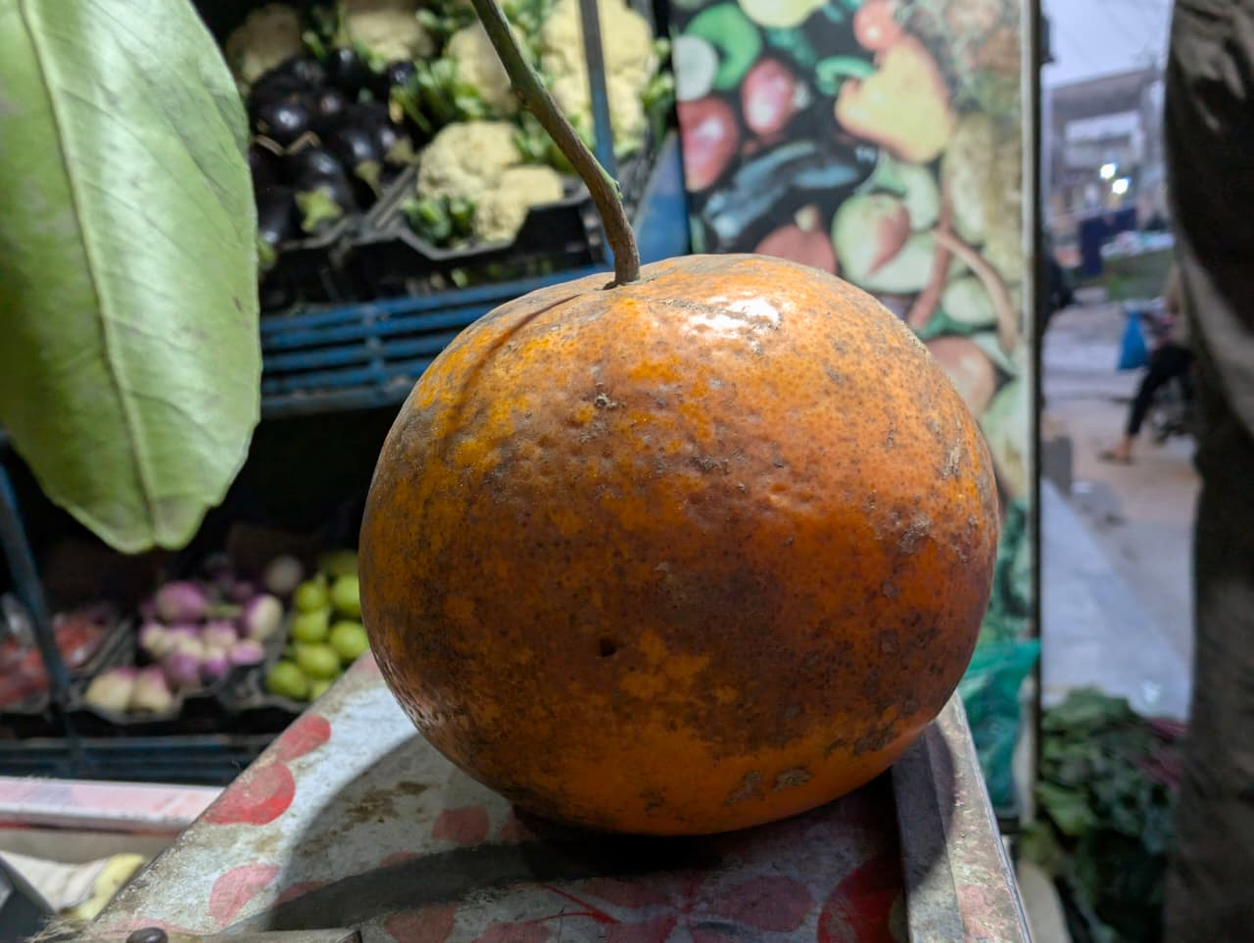orange: (148, 90, 1198, 818)
